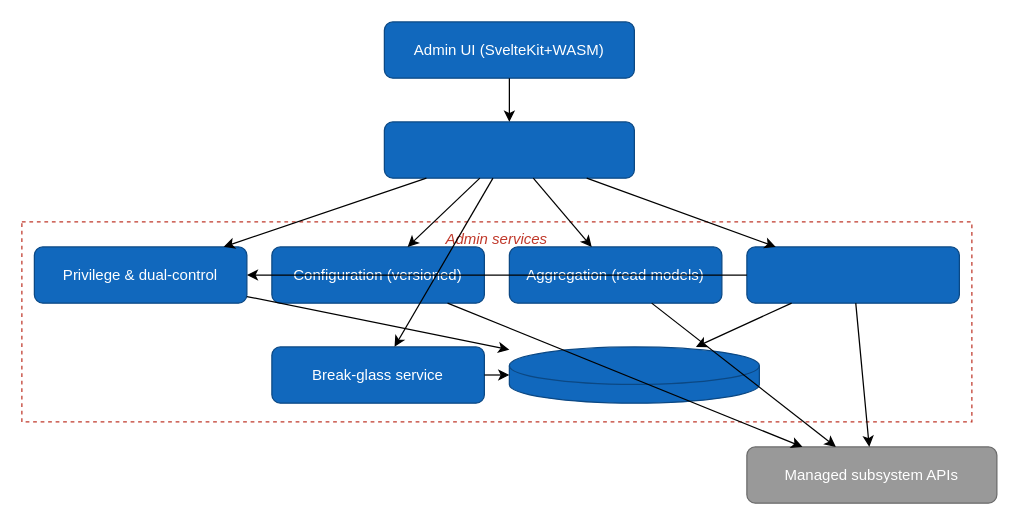
Image size: 1019x525. Some labels were removed from this diagram. Here are the shapes that lost their labels. From the top down, the centre of each, then its label:
At point (508, 149): "Admin BFF / API gateway".
At point (852, 274): "Action orchestrator".
At point (633, 374): "Admin audit ledger (PQ-signed)".
